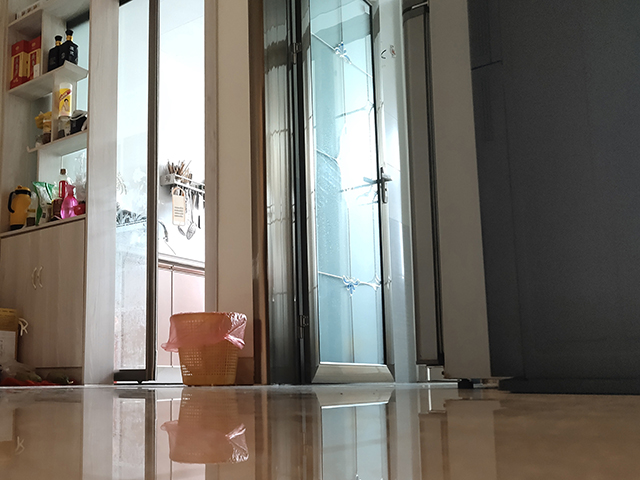cabinet: (1, 1, 120, 386), (154, 252, 206, 385)
trashcan: (168, 310, 248, 388)
